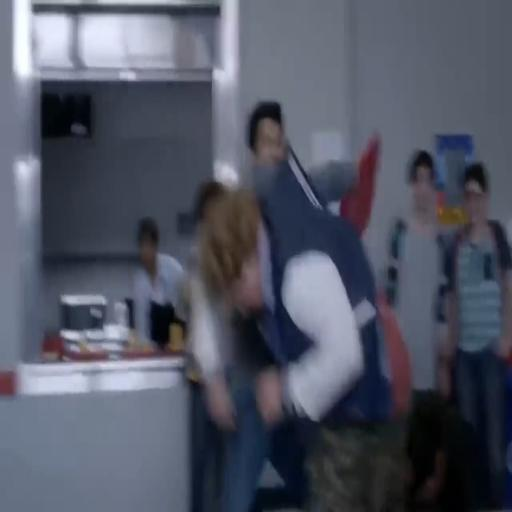violencia: (190, 64, 415, 512)
